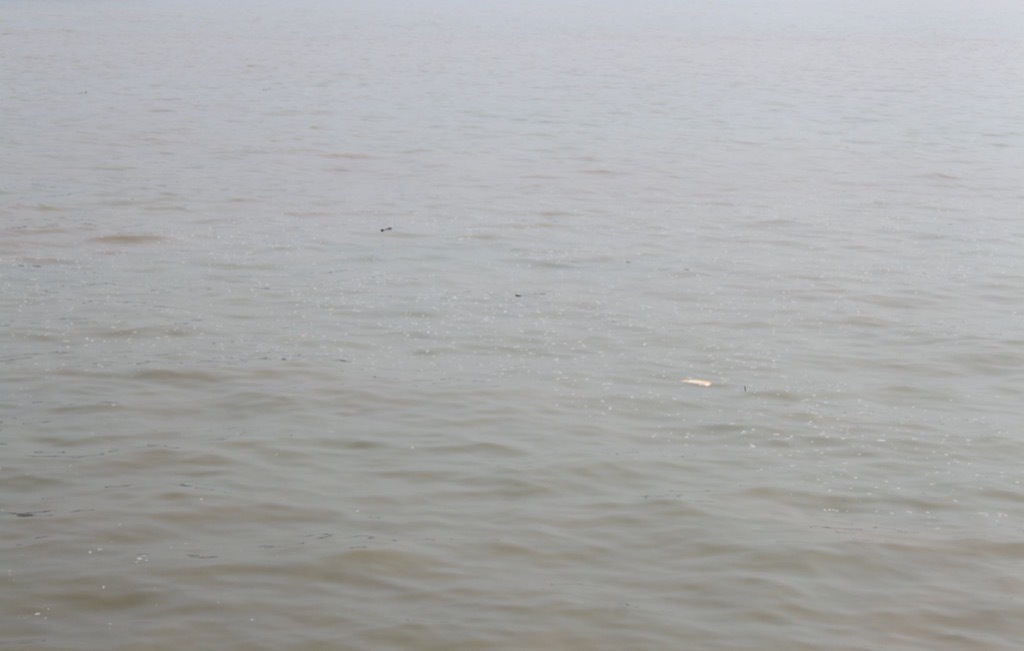organic: (366, 215, 410, 240), (499, 284, 560, 302), (676, 261, 695, 279), (615, 253, 640, 266)
plastic: (676, 372, 721, 396)
